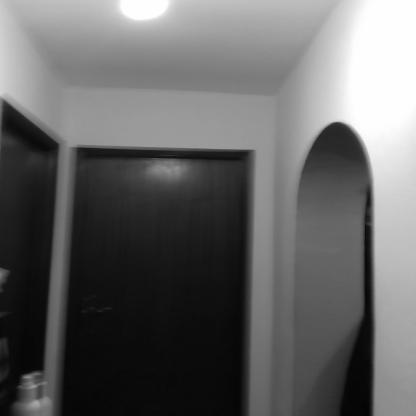closed: (56, 140, 270, 412), (2, 93, 58, 416)
